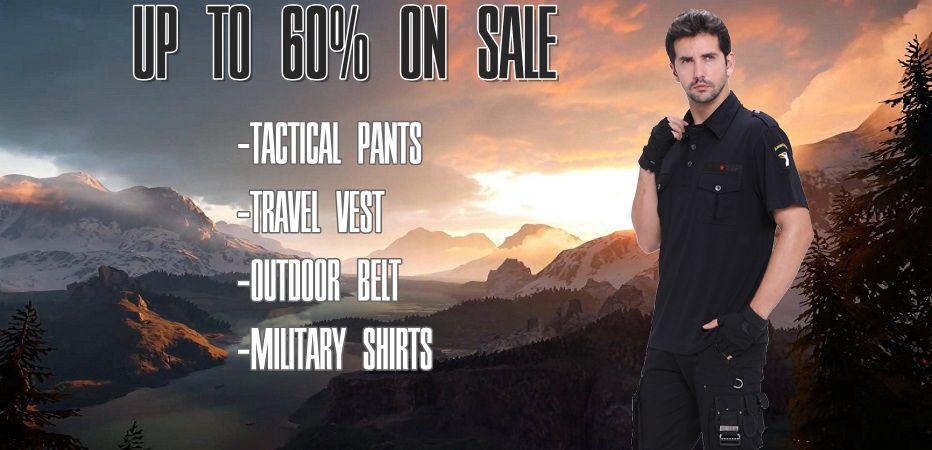pants: (620, 300, 781, 450)
